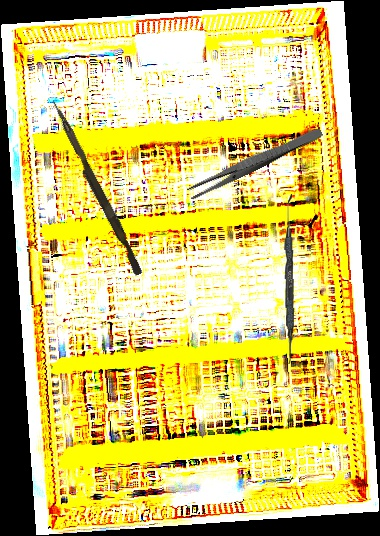Dressing Forceps: (186, 123, 324, 202)
Pusher: (44, 98, 148, 277)
Spatula Surgical: (281, 194, 298, 364)
